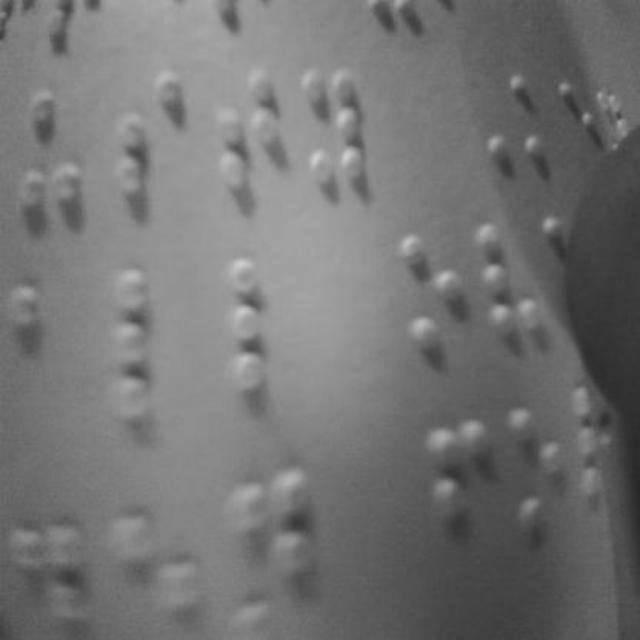braiile: (109, 264, 195, 414), (223, 255, 309, 401), (102, 66, 185, 212), (394, 221, 470, 367), (10, 81, 86, 222), (214, 62, 286, 206), (476, 215, 548, 347), (4, 280, 72, 410), (300, 64, 368, 190)
